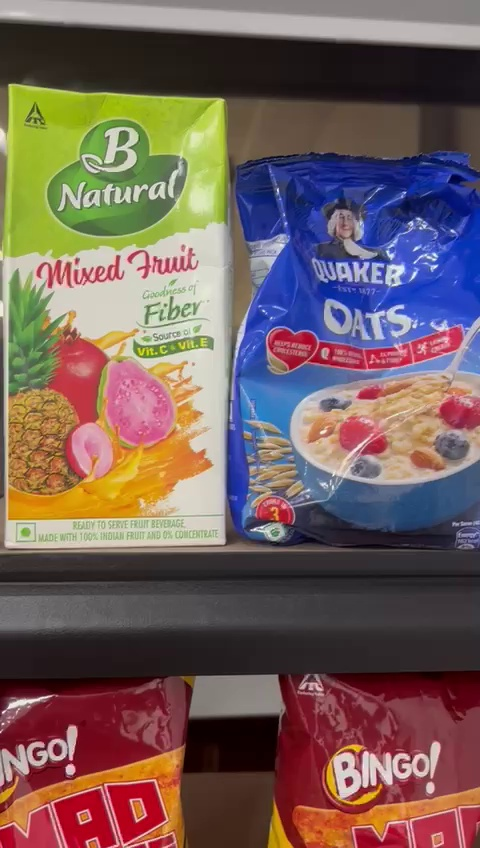Mixed Fruit: (6, 88, 229, 550)
Quaker Oats: (232, 151, 480, 540)
